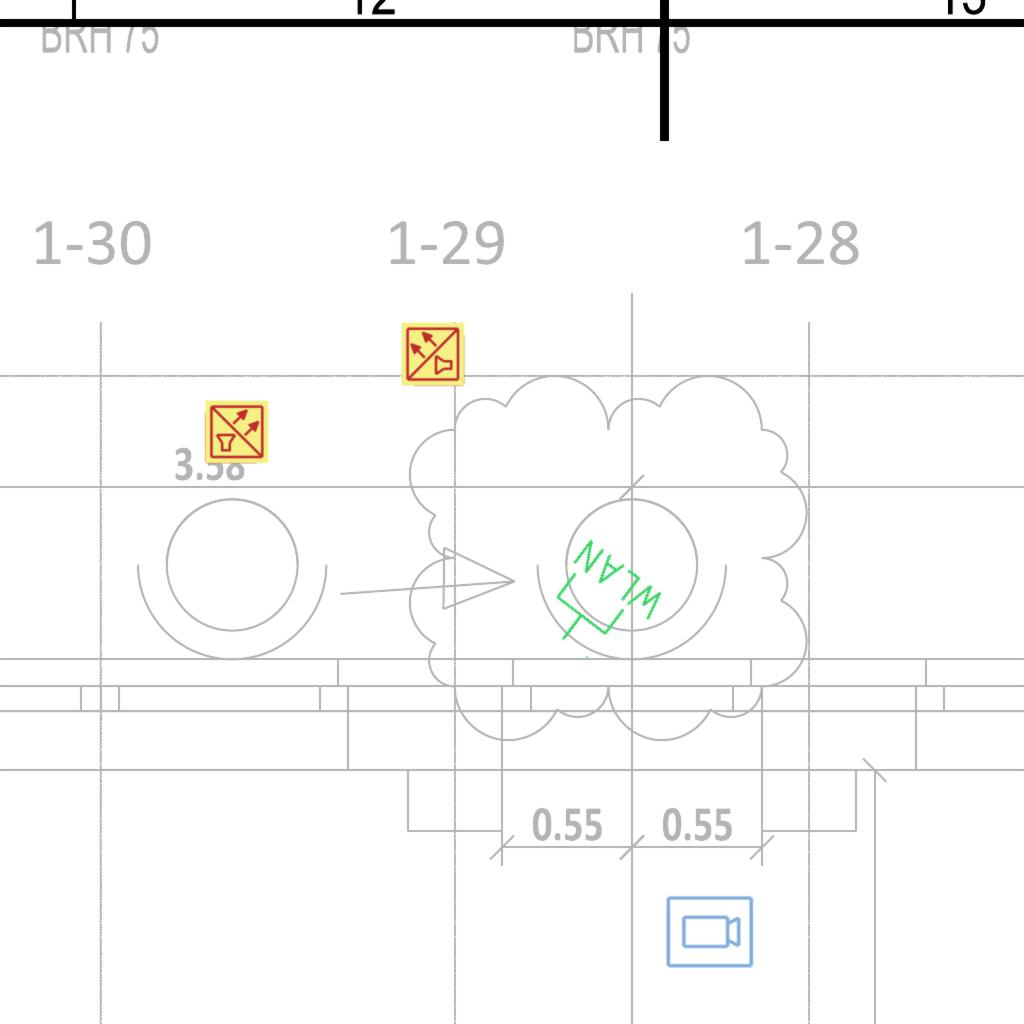KFO_Kamera_mit_Festobjektiv: (664, 894, 755, 971)
OKW_Multisensormelder_(Kombination_optischer_Rauch-Kahlenmonoxid_Waerme-Melder): (204, 399, 270, 465), (400, 321, 466, 387)
WLAN: (526, 533, 674, 680)
